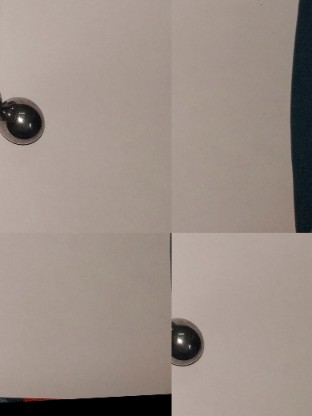ironball: (0, 96, 45, 148), (169, 314, 207, 368)
